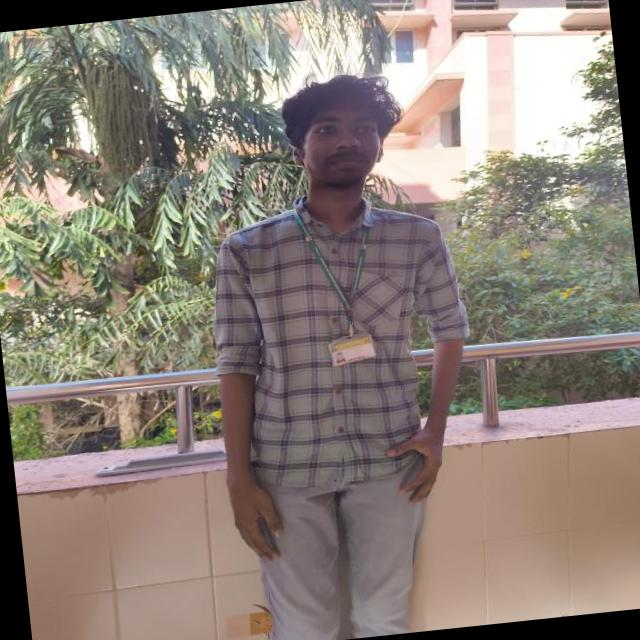id_card: (289, 200, 384, 372)
